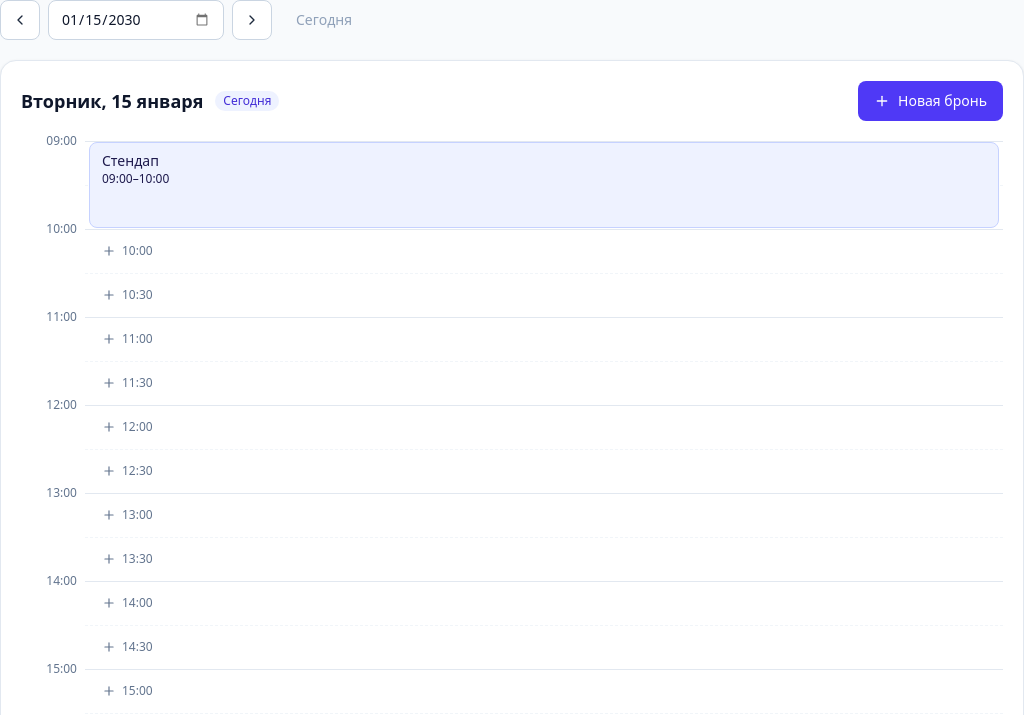
Test: BookingApp › re-times the booking when the new date is busy at that time
The width and height of the screenshot is (1024, 715).
Click the button "Стендап 09:00–10:00": point(130, 160) [89,142,999,228]
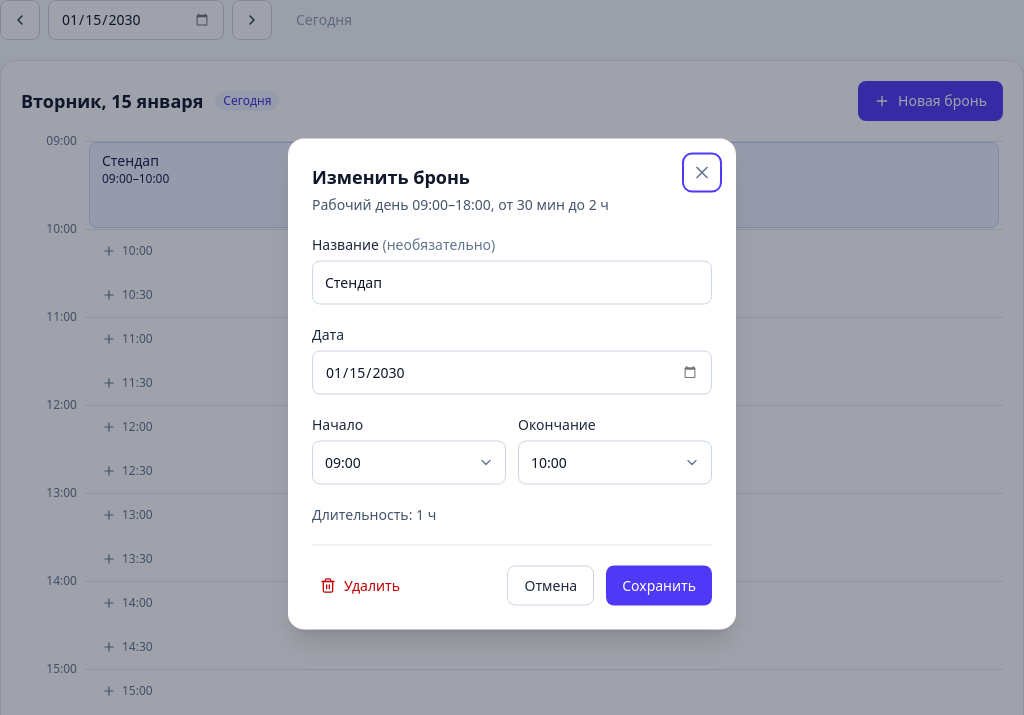
In the date field labelled "Дата": point(512, 372) [312,350,712,394], type "2030-01-16"
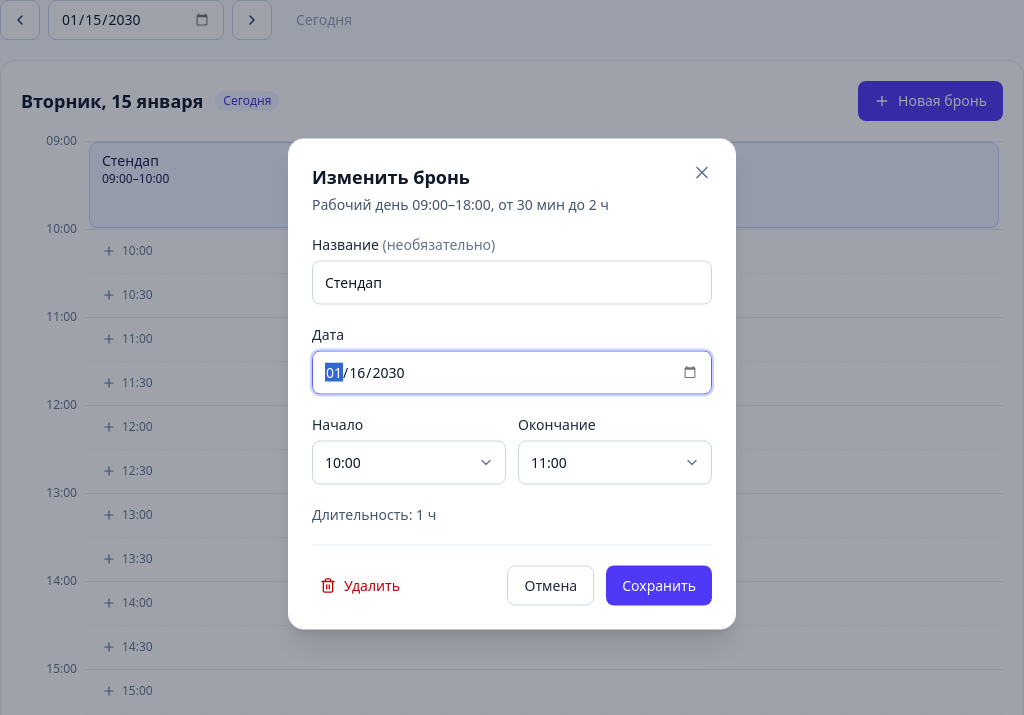
Now the dropdown labelled "Начало" shows "10:00", box [312,440,506,484]
Now the dropdown labelled "Окончание" shows "11:00", box [518,440,712,484]
